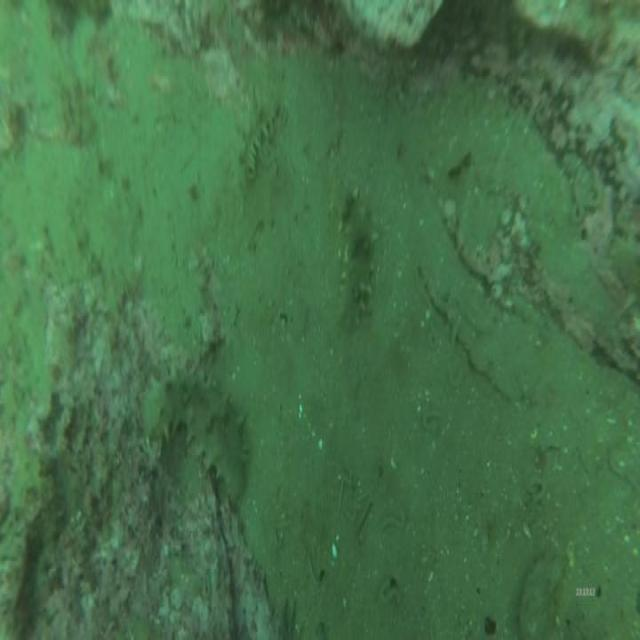holothurian: (140, 363, 252, 508), (324, 175, 382, 334), (239, 92, 283, 188)
